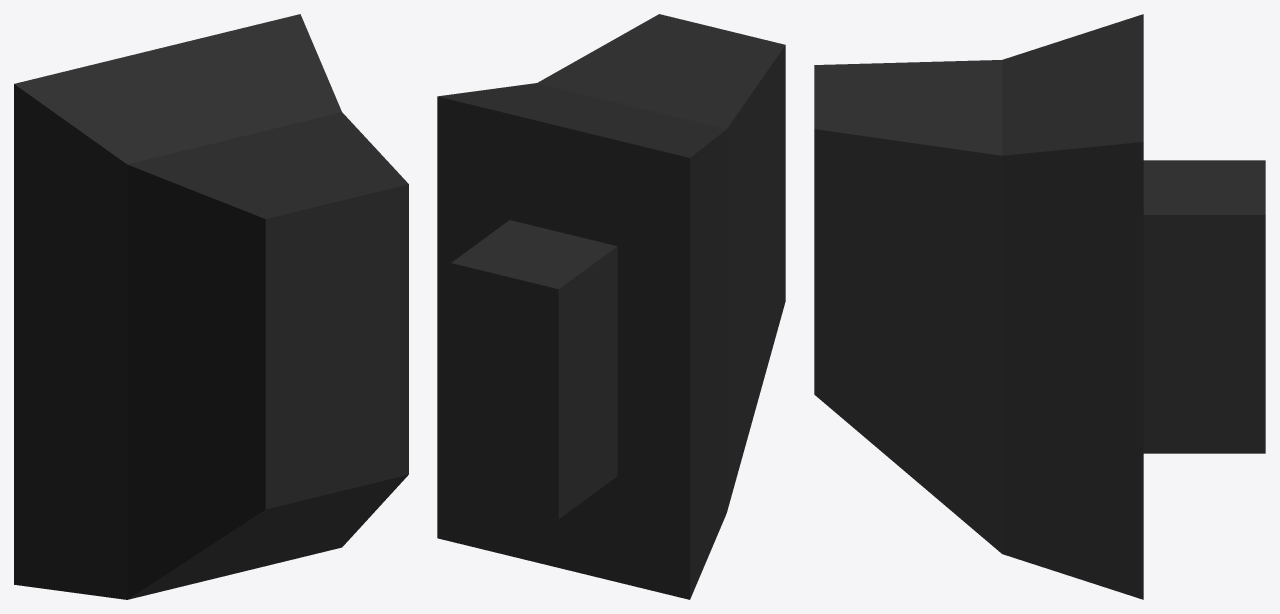
File: AssaultRifle3_01_3.fbx
The picture shows the model from 3 angles, left to right: view 1: azimuth 30°, elevation 25°; view 2: azimuth 150°, elevation 25°; view 3: azimuth 270°, elevation 25°; orthographic projection. The views are drawn at different scales.
Visible parts, largest first — view 1: AssaultRifle3_01_3; view 2: AssaultRifle3_01_3; view 3: AssaultRifle3_01_3.
Part boxes in pixels (box(x1,y1,x2,y2)): AssaultRifle3_01_3: box(14, 14, 408, 599); AssaultRifle3_01_3: box(437, 14, 785, 599); AssaultRifle3_01_3: box(814, 14, 1265, 599).
Size of the model in its own units: 0.016 by 0.0267 by 0.0239.
